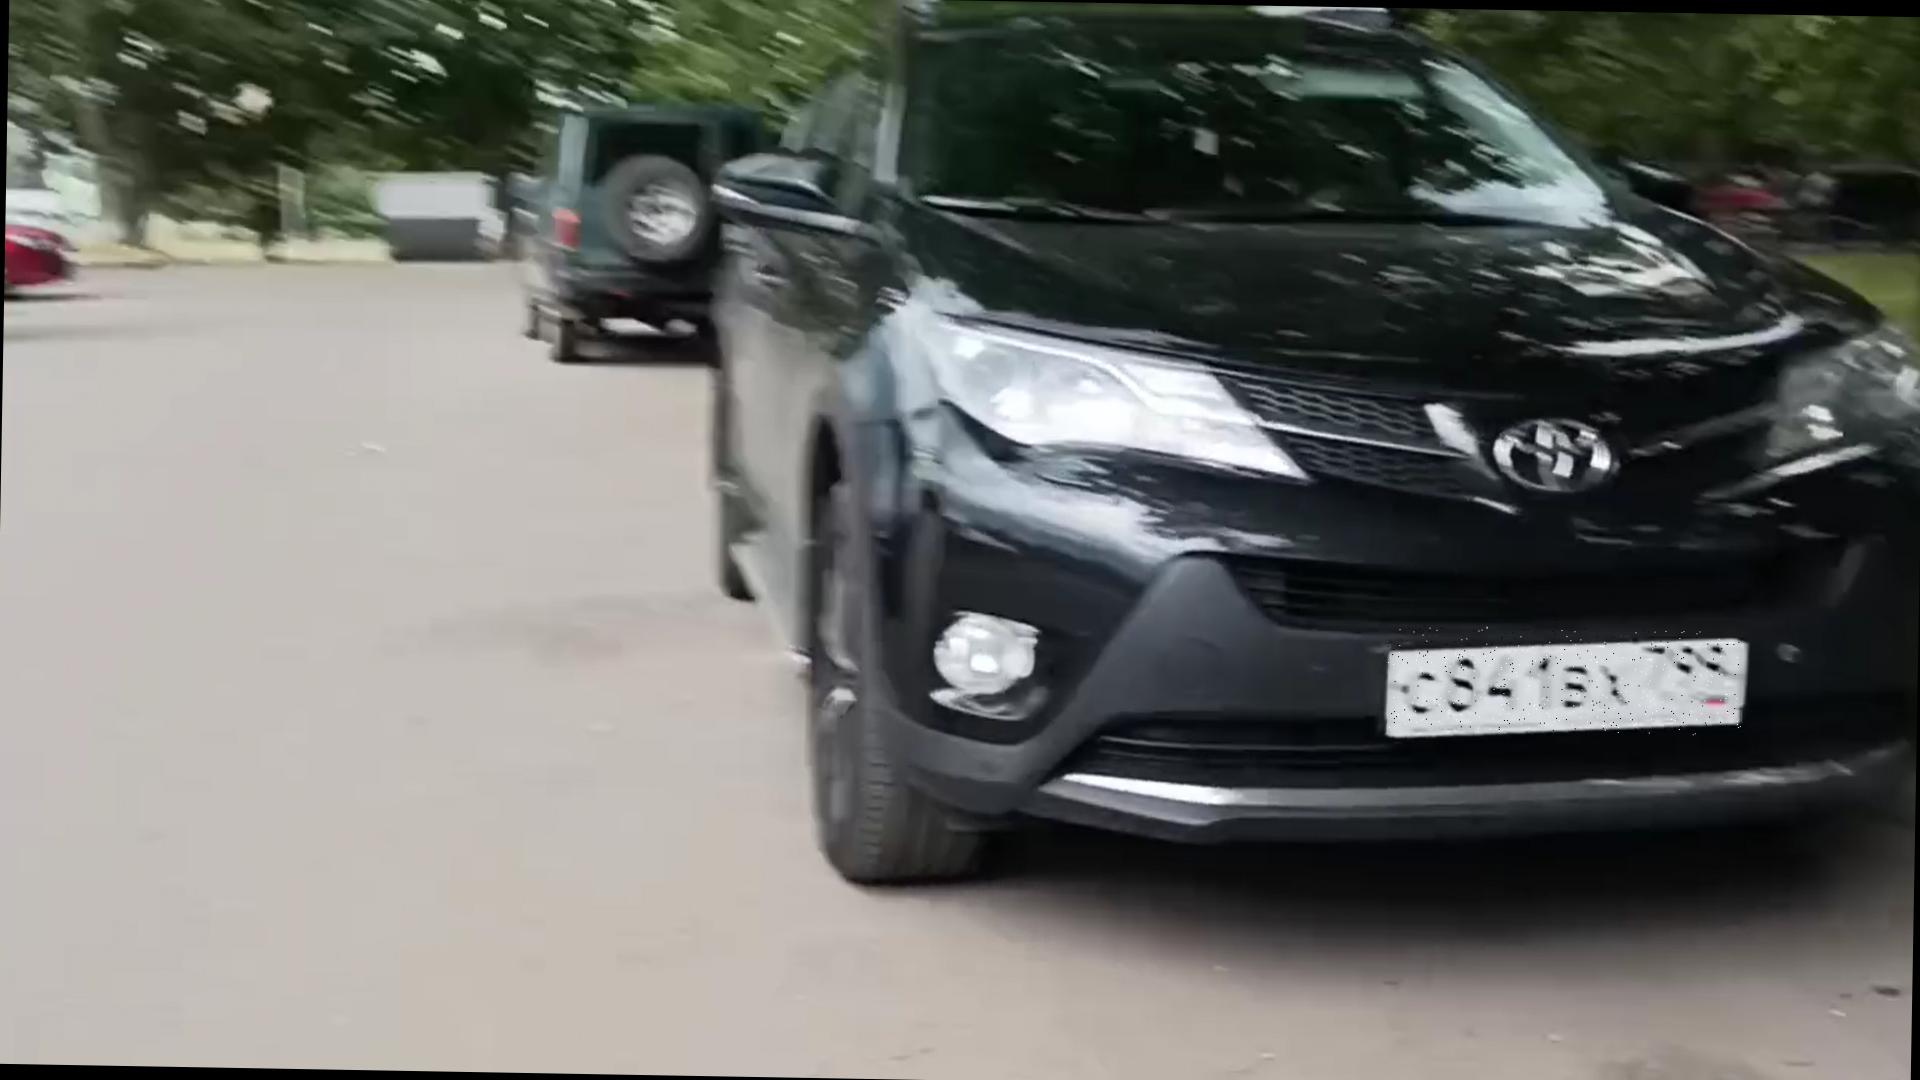plate: (1389, 626, 1745, 737)
